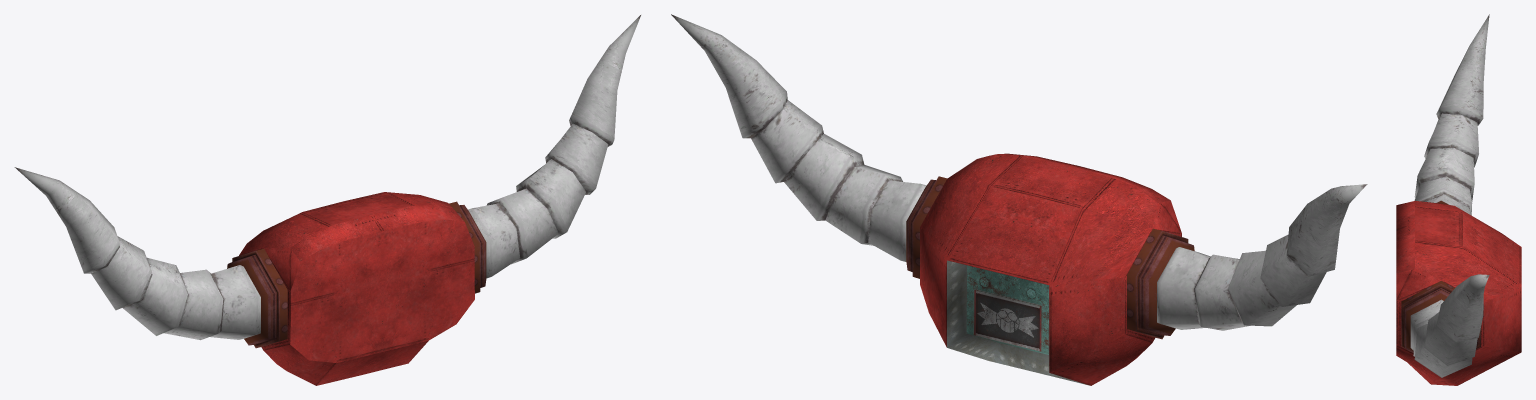
The model's file is Ob_EggHeadLarge_RC.fbx.
3 views of the same model, side by side, from view 1: azimuth 30°, elevation 25°; view 2: azimuth 150°, elevation 25°; view 3: azimuth 270°, elevation 25° (orthographic). The views are drawn at different scales.
Visible parts, largest first — view 1: Ob_EggHeadLarge_RC; view 2: Ob_EggHeadLarge_RC; view 3: Ob_EggHeadLarge_RC.
Boxes of the visible parts, box(x1,y1,x2,y2) form: Ob_EggHeadLarge_RC: box(14, 15, 640, 385); Ob_EggHeadLarge_RC: box(671, 14, 1367, 385); Ob_EggHeadLarge_RC: box(1396, 14, 1521, 385).
Size of the model in its own units: 4081 by 1621 by 827.
